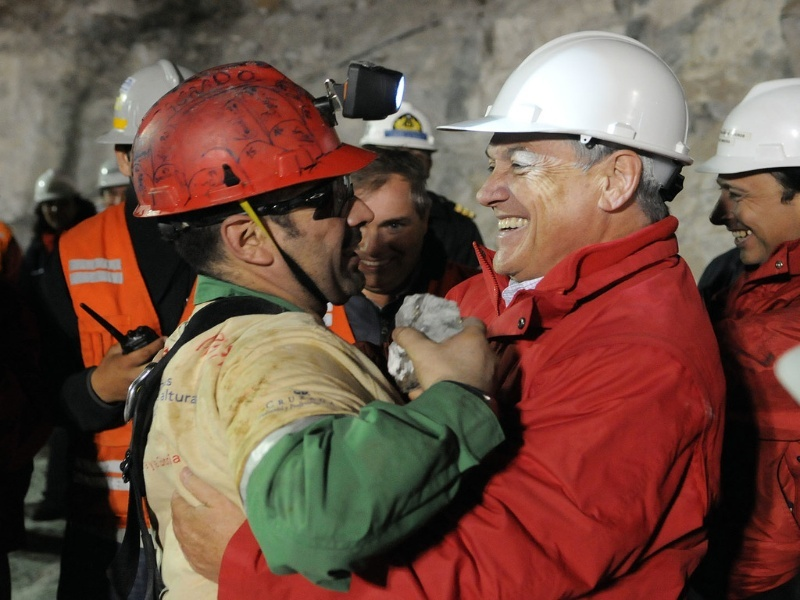Baret: (129, 61, 379, 221), (447, 30, 696, 183)
